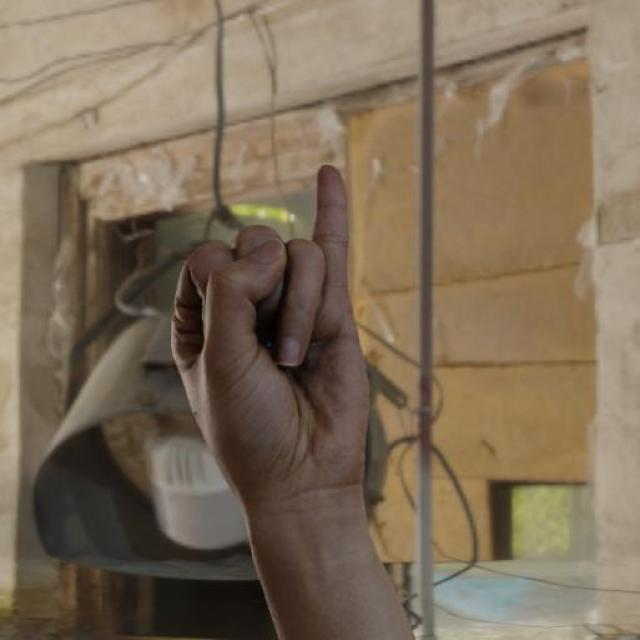I: (138, 147, 392, 528)
